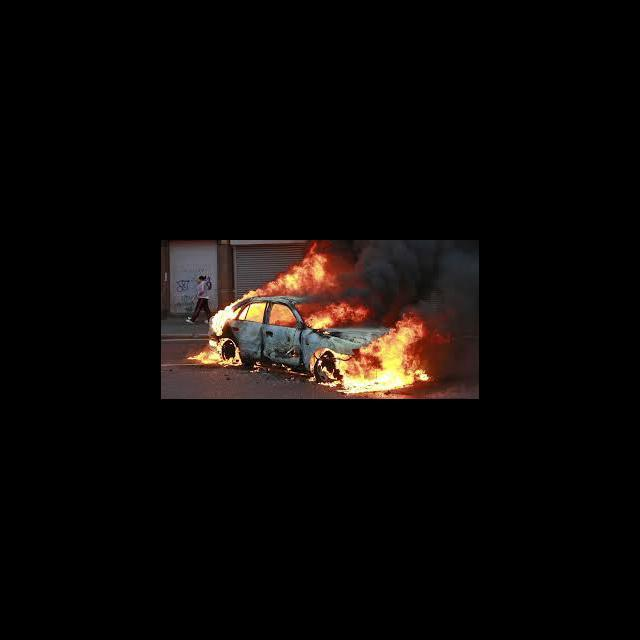Fire: (308, 304, 437, 396), (278, 244, 332, 298), (186, 338, 244, 370), (242, 302, 308, 326), (248, 362, 304, 381), (211, 304, 235, 336), (242, 280, 276, 301)
Smoke: (341, 240, 479, 298), (447, 297, 479, 378)
